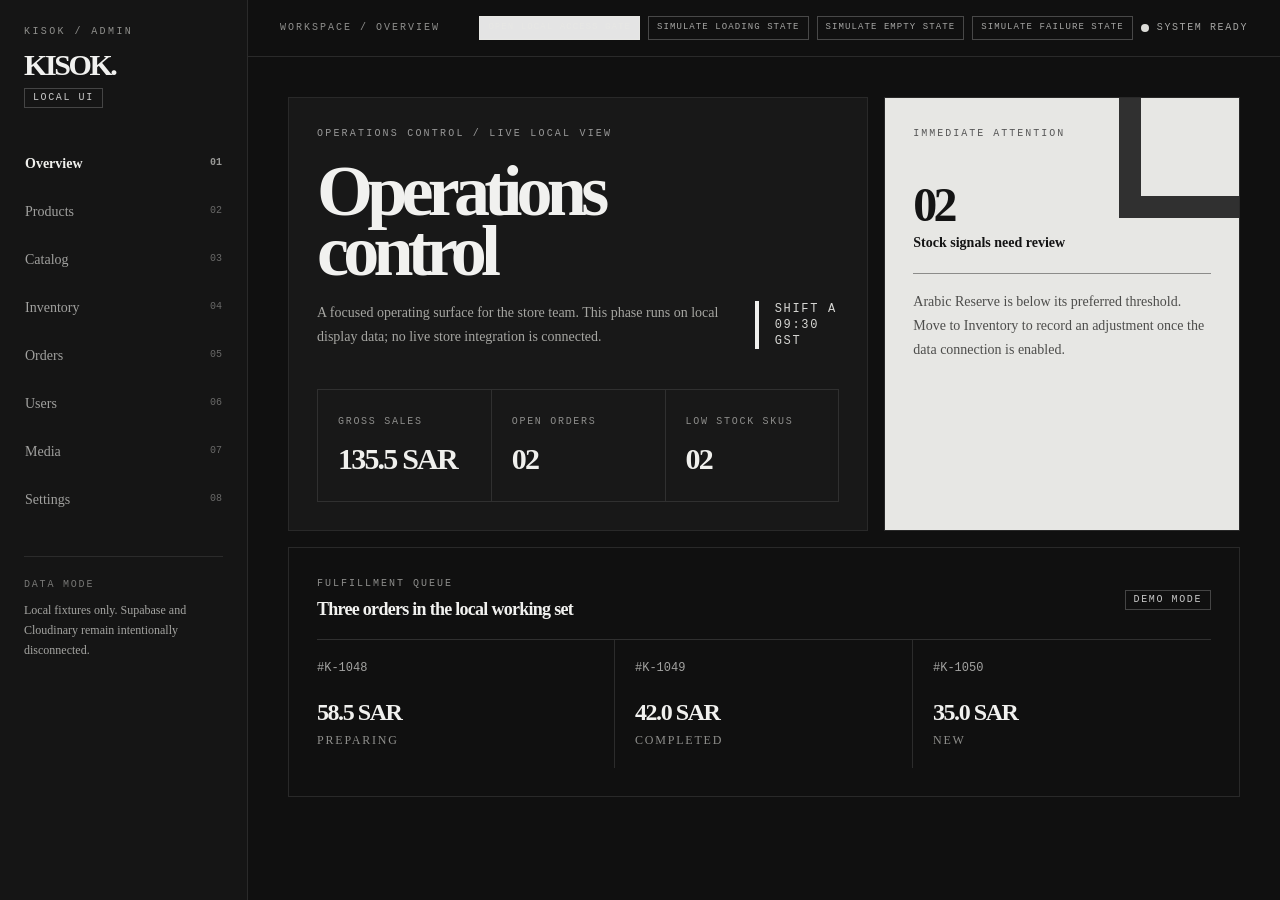
Test: KisokAdminConsole › shows the operational summary and switches to the local products feature
Expected: the heading "Operations control" is shown, [317,150,603,291]
Expected: the text "135.5 SAR" is shown, [338,441,471,477]
Click the button "Products 02" at (124, 212), box [24,188,223,236]
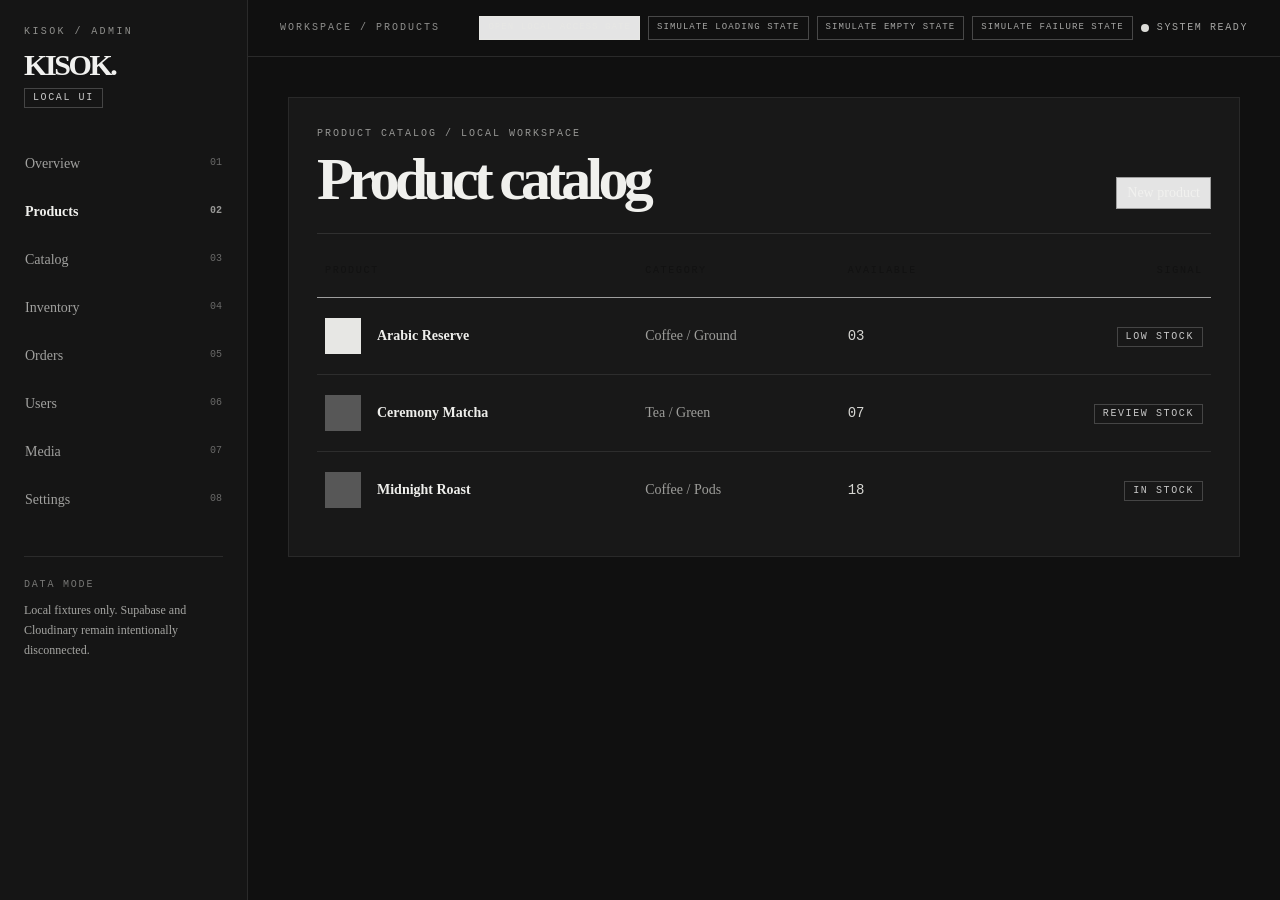
Expected: the text "Arabic Reserve" is shown, [377,326,469,346]
Expected: the heading "Product catalog" is shown, [317,148,649,208]
